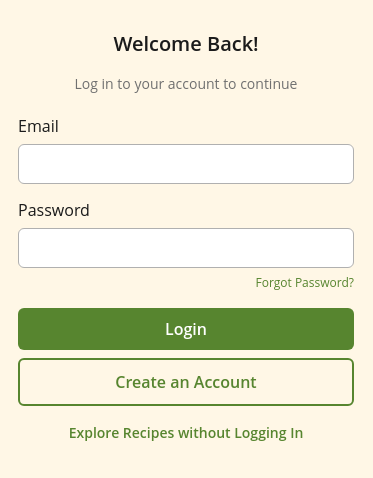
it: LoginPage › shows an error message when login fails
This screenshot has width=373, height=478.
Type "test@test.com" into the field labelled "Email" at (186, 164), box [18,144,354,184]
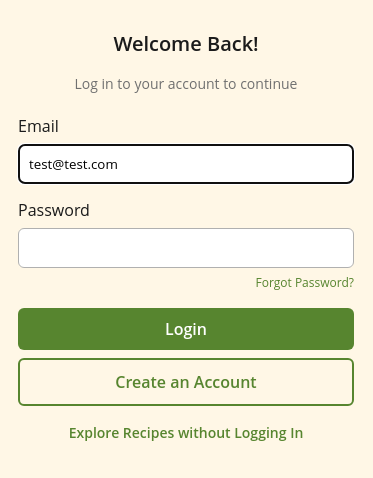
Type "wrongpassword" into the password field labelled "Password" at (186, 248), box [18,228,354,268]
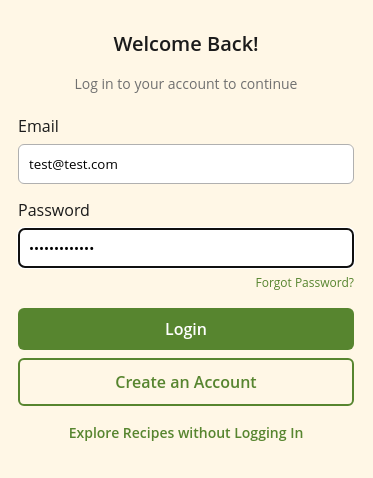
Click the button "Login" at (186, 329), box [18,308,354,350]
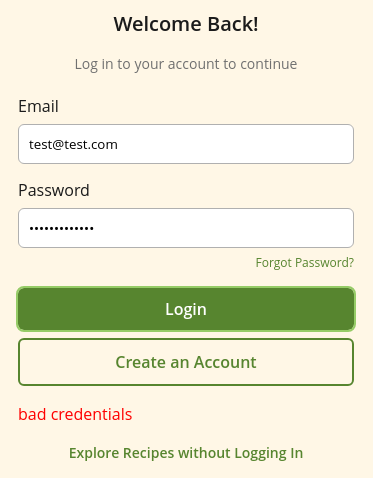
expect the text "bad credentials" is shown: met, box [18,403,132,425]
